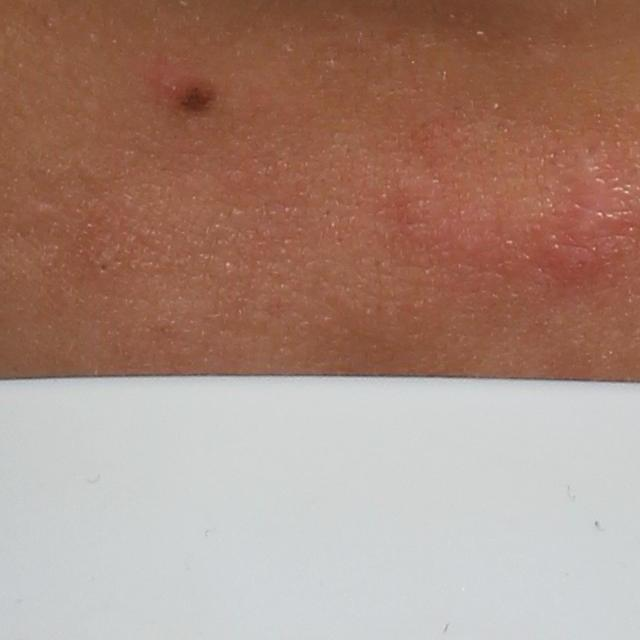nevus: (176, 85, 214, 117)
